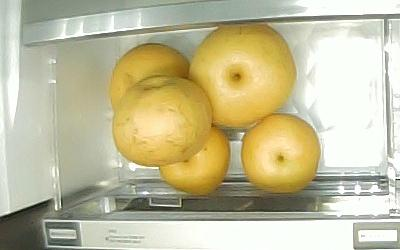pear: (189, 23, 296, 127), (112, 74, 211, 167), (241, 114, 320, 194), (107, 43, 190, 111), (158, 127, 230, 194)
